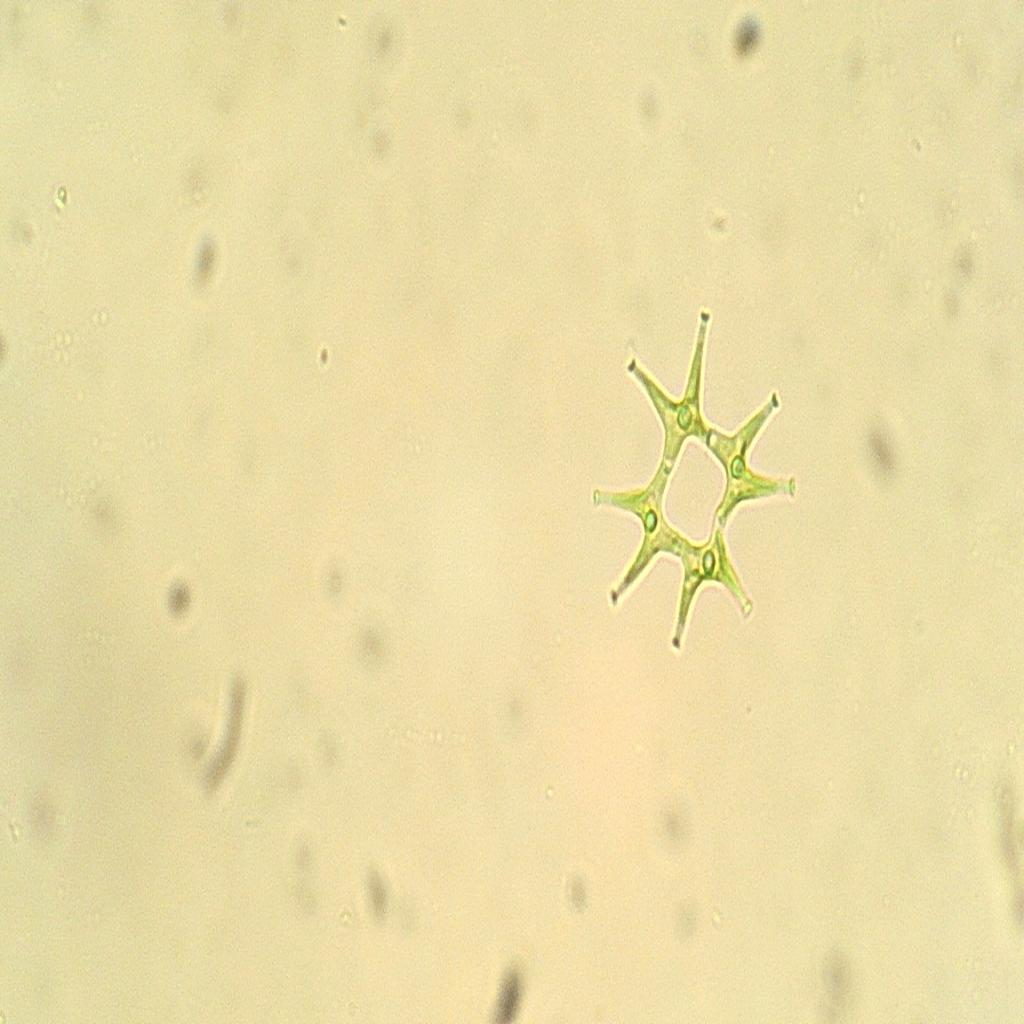Pediastrum_10: (566, 298, 810, 672)
